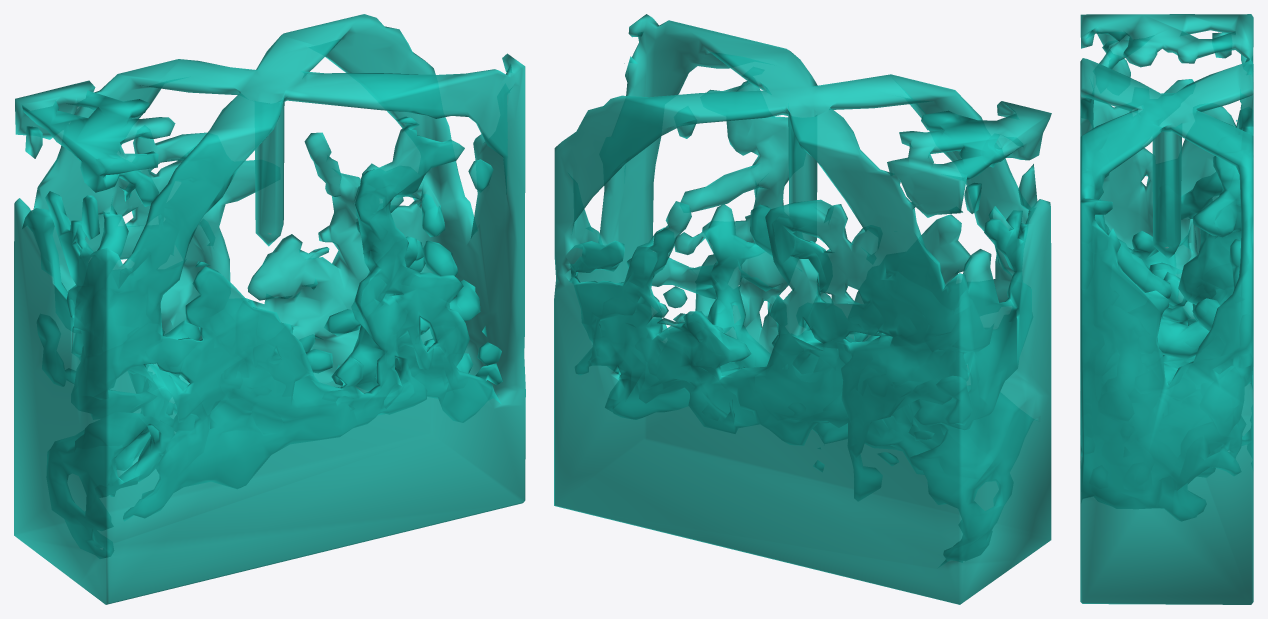
3 renders of one model, left to right at view 1: azimuth 30°, elevation 25°; view 2: azimuth 150°, elevation 25°; view 3: azimuth 270°, elevation 25°, orthographic. The views are drawn at different scales.
Parts seen in each view (by area): view 1: Liquid_Domain; view 2: Liquid_Domain; view 3: Liquid_Domain.
Part boxes in pixels (box(x1,y1,x2,y2)): Liquid_Domain: box(14, 14, 525, 604); Liquid_Domain: box(554, 14, 1051, 604); Liquid_Domain: box(1080, 14, 1253, 604).
Size of the model in its own units: 884 by 884 by 345.
